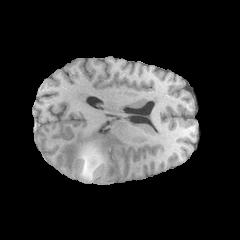glioma: (60, 122, 124, 181)
